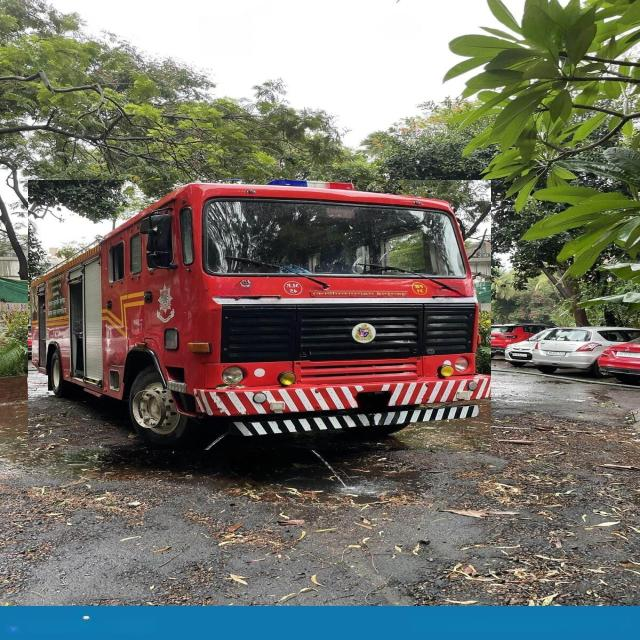car: (530, 326, 639, 377), (488, 324, 555, 358), (505, 329, 552, 366)
emergency: (28, 180, 491, 450)
